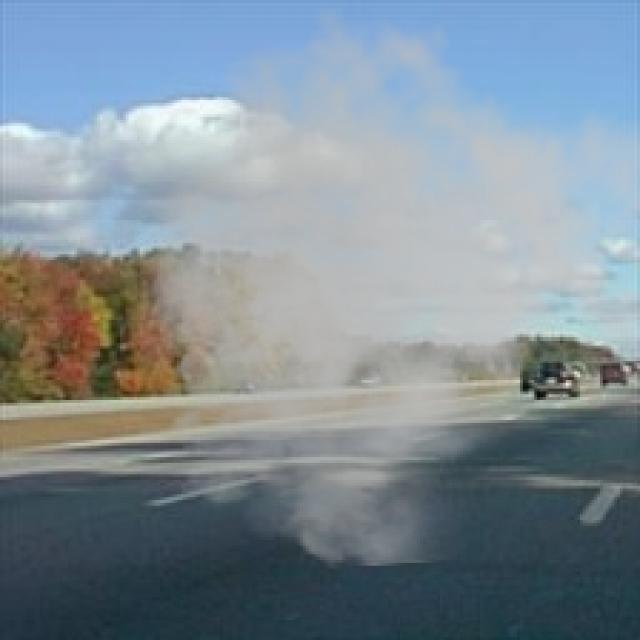Smoke: (97, 2, 637, 572)
